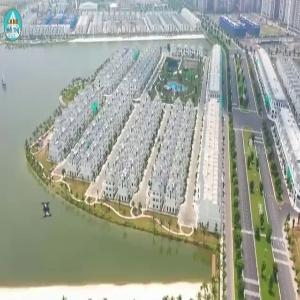drone: (27, 189, 69, 231)
